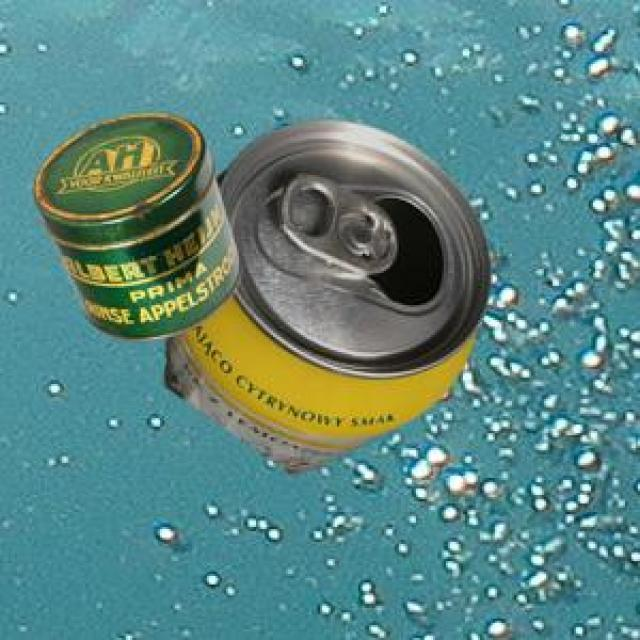Can: (163, 118, 487, 470), (31, 110, 238, 338)
